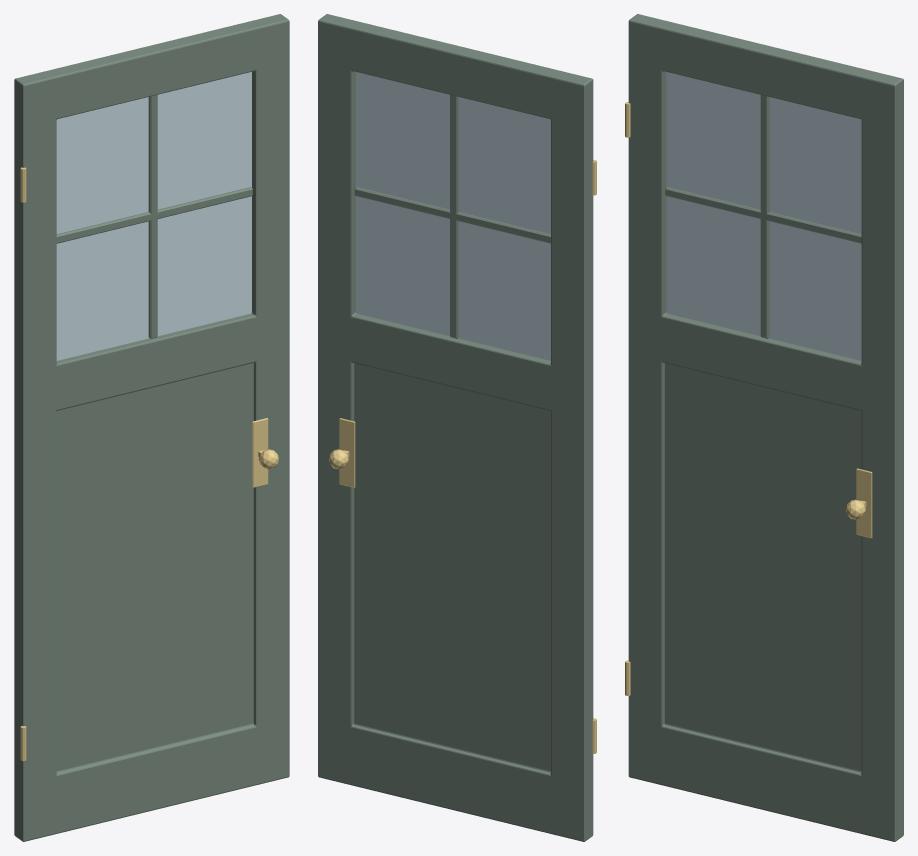
The model's file is door_leaf_class.glb.
3 renders of one model, left to right at view 1: azimuth 30°, elevation 25°; view 2: azimuth 150°, elevation 25°; view 3: azimuth 330°, elevation 25°, orthographic.
Visible parts, largest first — view 1: door_leaf_class_door, door_leaf_class_glass, door_leaf_class_brass; view 2: door_leaf_class_door, door_leaf_class_glass, door_leaf_class_brass; view 3: door_leaf_class_door, door_leaf_class_glass, door_leaf_class_brass.
Boxes of the visible parts, box(x1,y1,x2,y2) form: door_leaf_class_door: box(14, 14, 289, 841); door_leaf_class_glass: box(56, 72, 251, 360); door_leaf_class_brass: box(20, 167, 278, 761); door_leaf_class_door: box(318, 14, 593, 841); door_leaf_class_glass: box(355, 72, 550, 360); door_leaf_class_brass: box(328, 160, 596, 753); door_leaf_class_door: box(628, 14, 903, 841); door_leaf_class_glass: box(666, 72, 861, 360); door_leaf_class_brass: box(625, 102, 872, 695).
Size of the model in its own units: 0.848 by 2.28 by 0.206.
